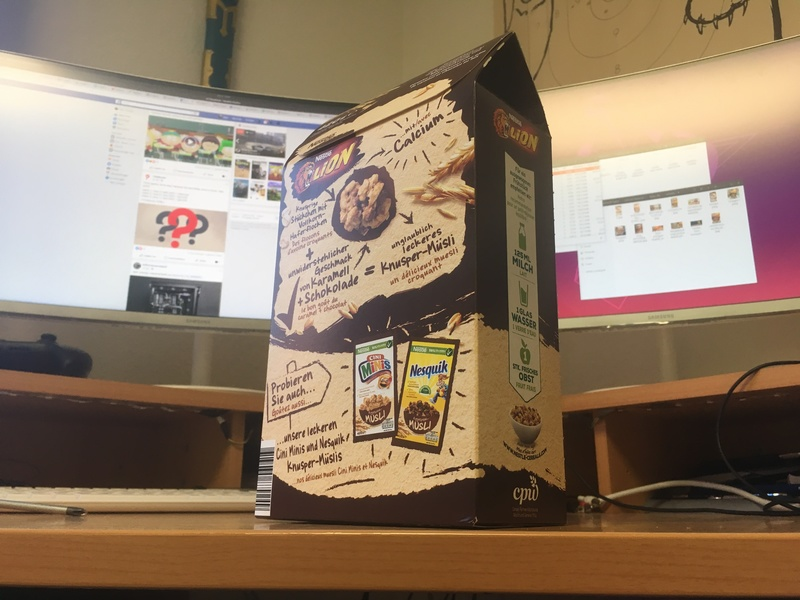cereals: (252, 32, 570, 529)
